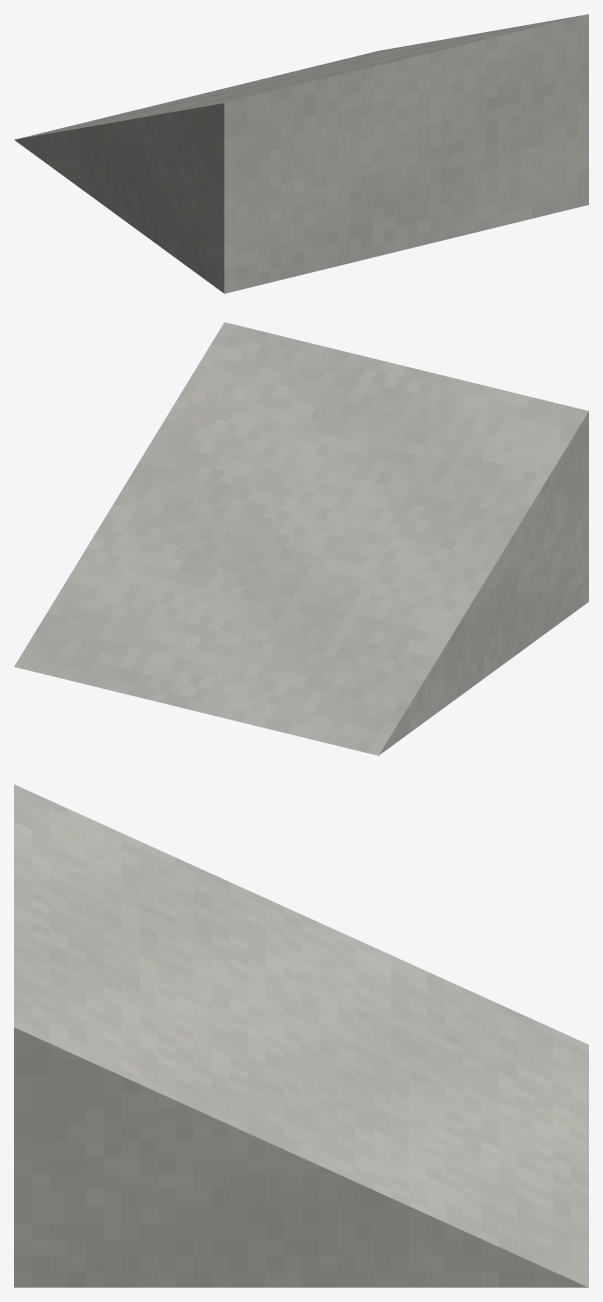
Rendered from bank_low.obj.
3 renders of one model, top to bottom at view 1: azimuth 30°, elevation 25°; view 2: azimuth 150°, elevation 25°; view 3: azimuth 270°, elevation 25°, orthographic. The views are drawn at different scales.
Visible parts, largest first — view 1: bank_low; view 2: bank_low; view 3: bank_low.
Part boxes in pixels (<box>): bank_low: <box>14,14,588,293</box>; bank_low: <box>14,322,588,755</box>; bank_low: <box>14,784,588,1287</box>.
Bounding box in the file's own units: 1 × 0.5 × 1.
